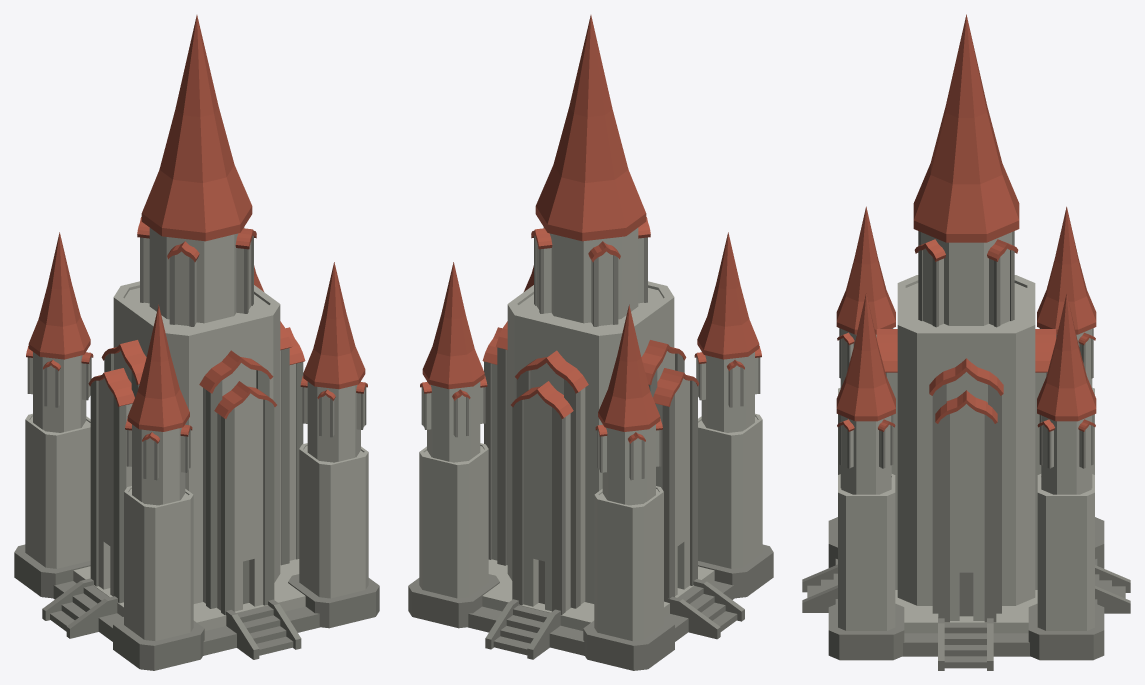
File: Castle.fbx
3 renders of one model, left to right at view 1: azimuth 30°, elevation 25°; view 2: azimuth 150°, elevation 25°; view 3: azimuth 270°, elevation 25°, orthographic.
Visible parts, largest first — view 1: 5, 9, 13, 4, 6, 1, 3, 10, 12, 11, 7, 2 (+2 smaller); view 2: 9, 5, 13, 4, 6, 1, 3, 10, 12, 11, 7, 2 (+2 smaller); view 3: 13, 4, 9, 5, 1, 6, 3, 12, 10, 11, 7, 2 (+2 smaller).
Part boxes in pixels (x1,y1,x2,y2): 5: (25, 413, 368, 641); 9: (90, 348, 303, 615); 13: (28, 15, 365, 431); 4: (113, 281, 280, 603); 6: (33, 352, 360, 505); 1: (14, 544, 379, 670); 3: (42, 578, 301, 659); 10: (149, 227, 244, 323); 12: (88, 217, 305, 418); 11: (140, 236, 253, 326); 7: (27, 356, 366, 480); 2: (73, 559, 305, 630); 9: (484, 347, 697, 614); 5: (419, 413, 762, 641); 13: (422, 15, 759, 431); 4: (507, 281, 674, 603); 6: (427, 352, 754, 505); 1: (408, 544, 773, 670); 3: (485, 579, 744, 659); 10: (543, 227, 638, 323); 12: (482, 217, 699, 418); 11: (534, 236, 647, 326); 7: (421, 356, 760, 480); 2: (482, 559, 714, 630); 13: (836, 14, 1096, 421); 4: (897, 275, 1035, 605); 9: (885, 372, 1047, 622); 5: (838, 387, 1094, 630); 1: (828, 517, 1104, 660); 6: (840, 329, 1092, 494); 3: (802, 564, 1130, 670); 12: (876, 239, 1056, 423); 10: (921, 232, 1011, 325); 11: (918, 231, 1014, 327); 7: (839, 328, 1093, 468); 2: (895, 590, 1037, 633).
Size of the model in its own units: 219 by 433 by 219.
